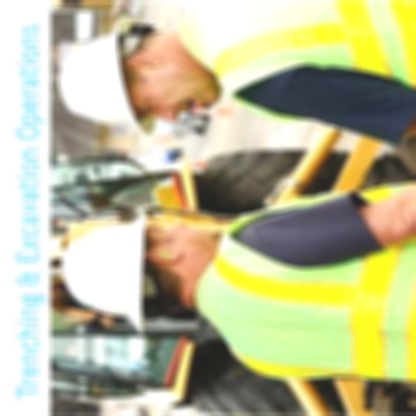vest: (191, 183, 412, 394), (172, 3, 413, 133)
white: (55, 207, 159, 344), (53, 14, 157, 140)
